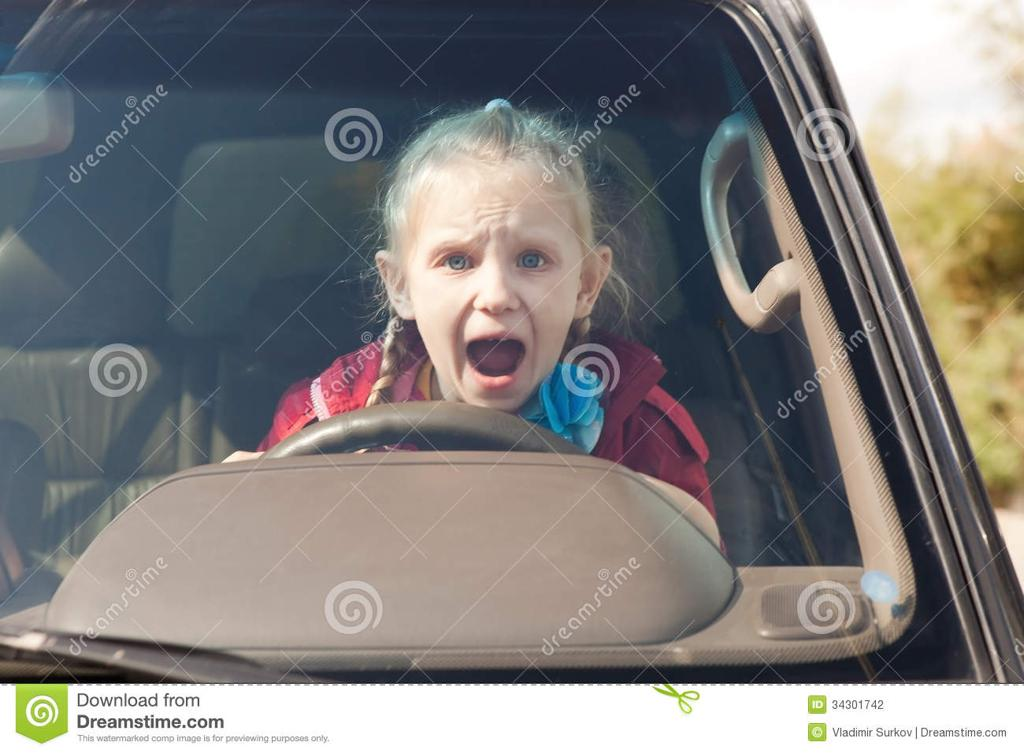face: (406, 170, 576, 406)
